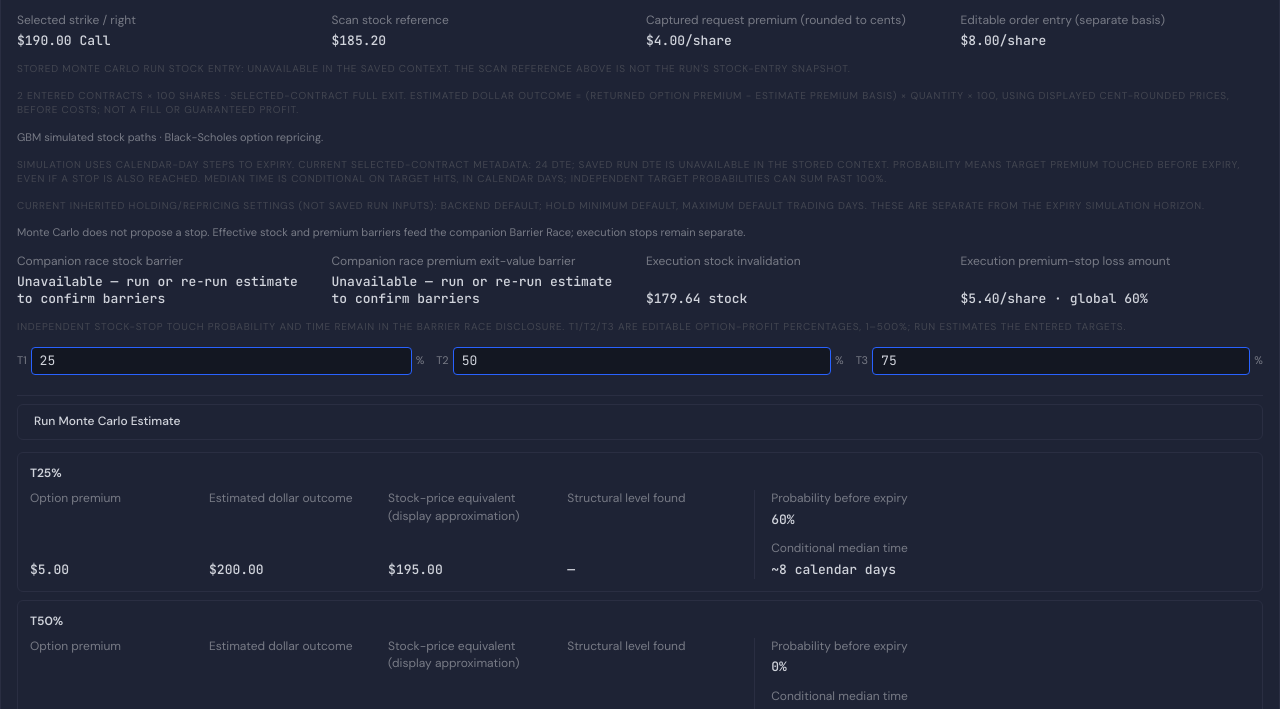
Test: restores T1/T2/T3 inputs and retains their clamps without changing saved result rows
(page scrolled)
Expected: the number field named "T2 profit target %" holds "50", [453, 347, 831, 375]
Expected: the number field named "T3 profit target %" holds "75", [872, 347, 1250, 375]
Step 1. Replace the text in the number field named "T1 profit target %" with "900" → x=221, y=361, box [31, 347, 412, 375]
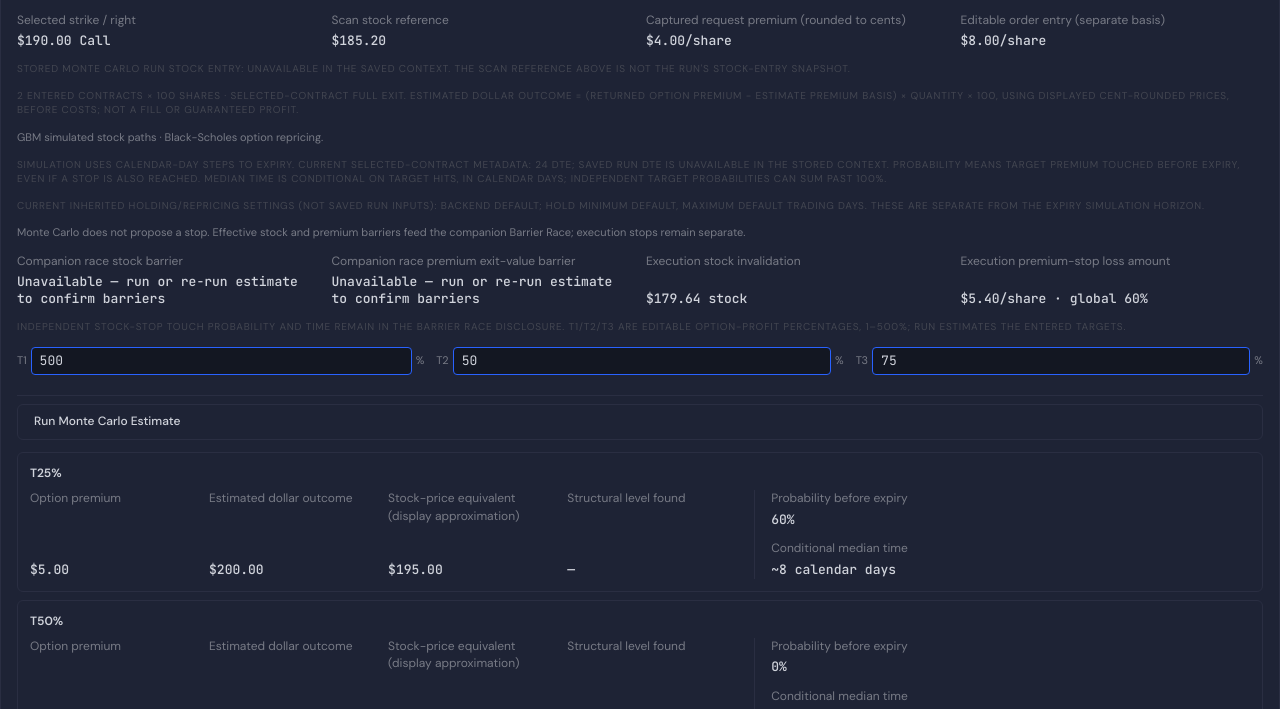
Expected: the number field named "T1 profit target %" holds "500"
Step 2. Replace the text in the number field named "T1 profit target %" with "-10" → x=221, y=361, box [31, 347, 412, 375]
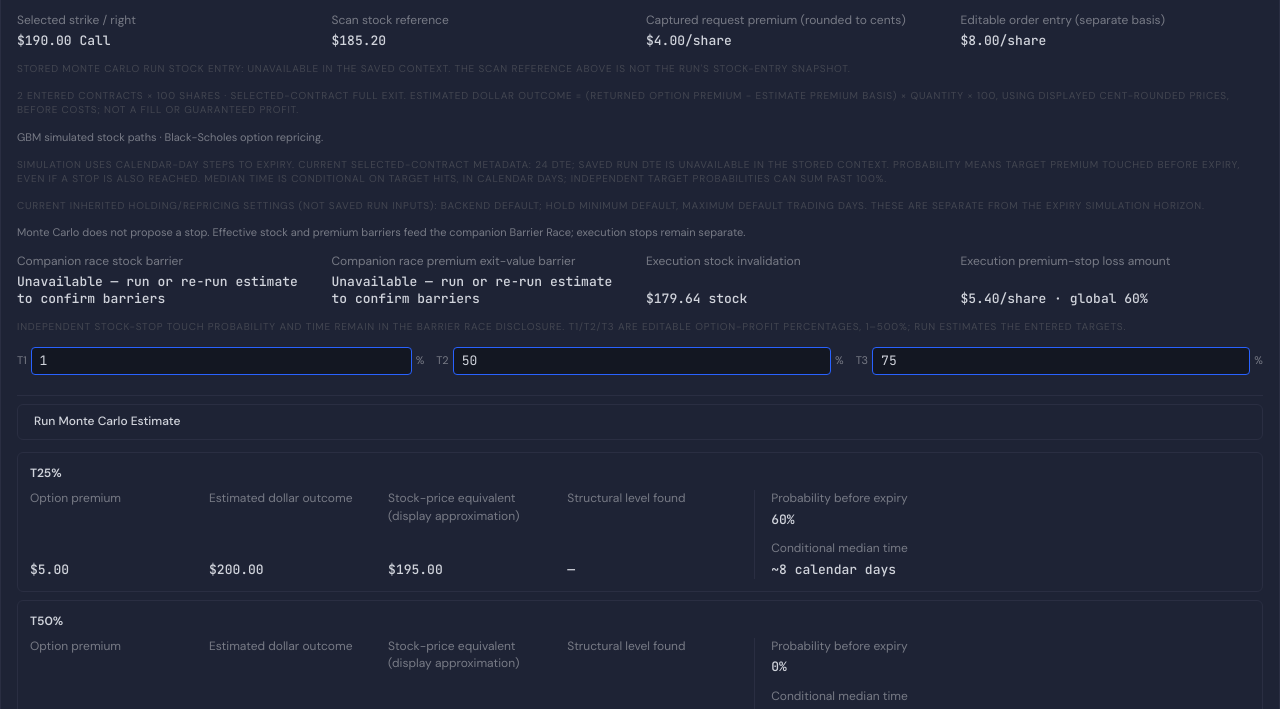
Expected: the text "T25%" is shown, [30, 465, 62, 482]
Expected: the number field named "T1 profit target %" holds "1", [31, 347, 412, 375]
